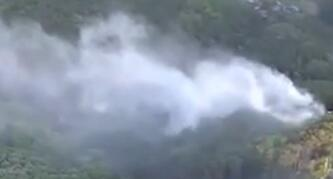yanwu: (0, 16, 326, 138)
